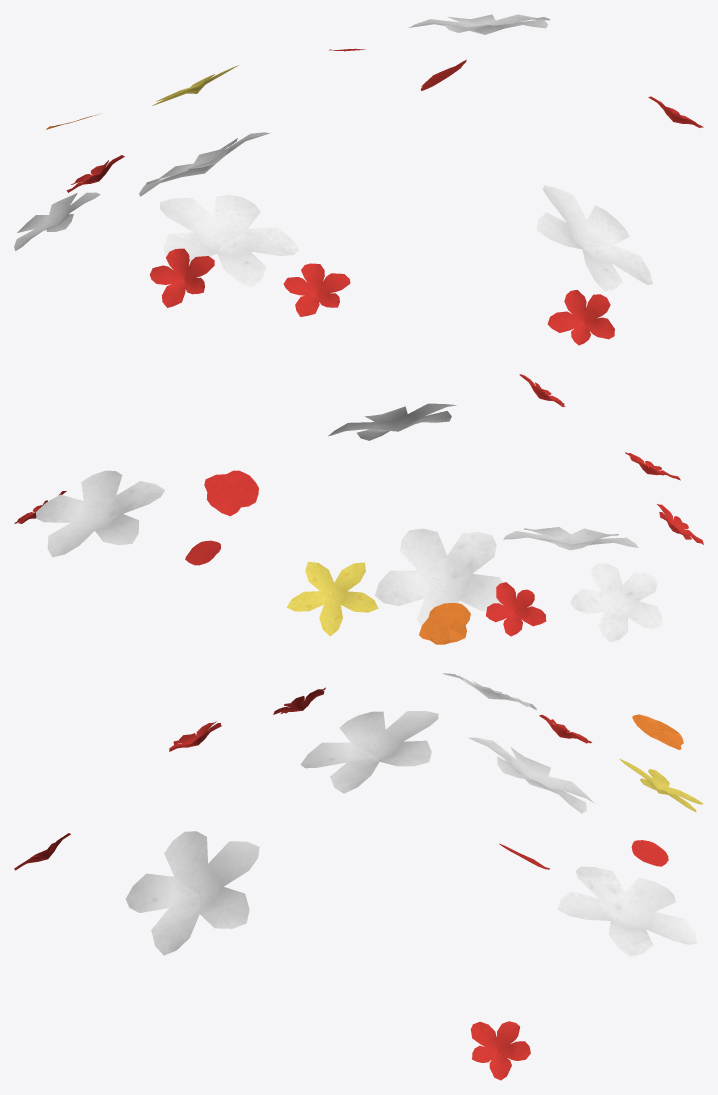
File: Flower_bunch_01.fbx
3 views of the same model, one above another, from view 1: azimuth 30°, elevation 25°; view 2: azimuth 150°, elevation 25°; view 3: azimuth 270°, elevation 25° (orthographic). The views are drawn at different scales.
Parts seen in each view (by area): view 1: Flower_bunch_01; view 2: Flower_bunch_01; view 3: Flower_bunch_01.
Boxes of the visible parts, x1=… form: Flower_bunch_01: x1=14, y1=14, x2=703, y2=345; Flower_bunch_01: x1=14, y1=374, x2=703, y2=644; Flower_bunch_01: x1=14, y1=673, x2=703, y2=1080.
Bounding box in the file's own units: 91.32 × 17.15 × 106.
